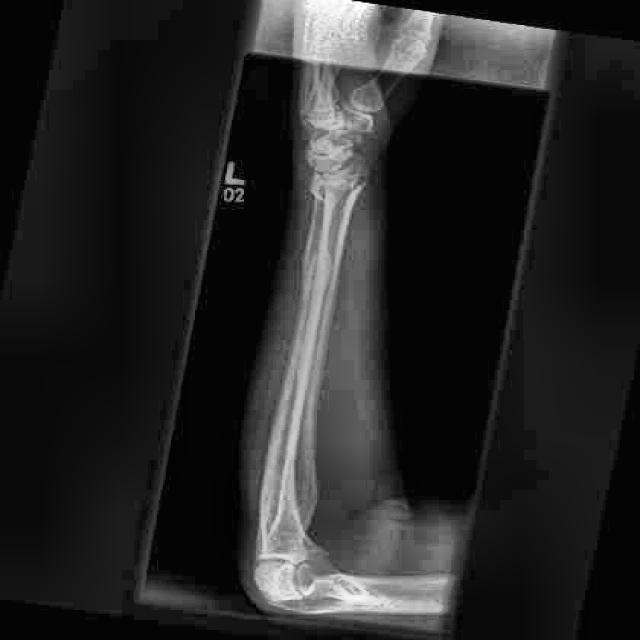forearm fracture: (279, 239, 345, 311)
